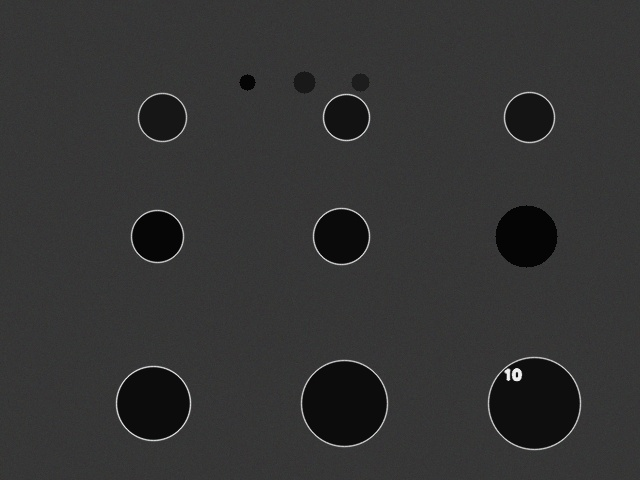hole: (488, 357, 580, 449), (301, 360, 387, 446), (116, 366, 190, 440), (495, 205, 557, 267), (313, 208, 369, 264), (131, 210, 183, 262), (504, 92, 554, 142), (138, 93, 186, 141), (323, 94, 369, 140), (293, 71, 315, 93), (351, 73, 369, 91), (239, 74, 255, 90)
